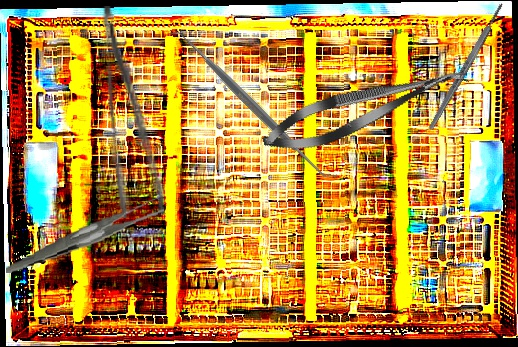Dressing Forceps: (98, 2, 167, 219), (0, 196, 169, 273)
Micro Scissor: (256, 52, 474, 164)
Scalpel Handle: (426, 1, 506, 132)
Spatula Surgical: (166, 18, 340, 192)
